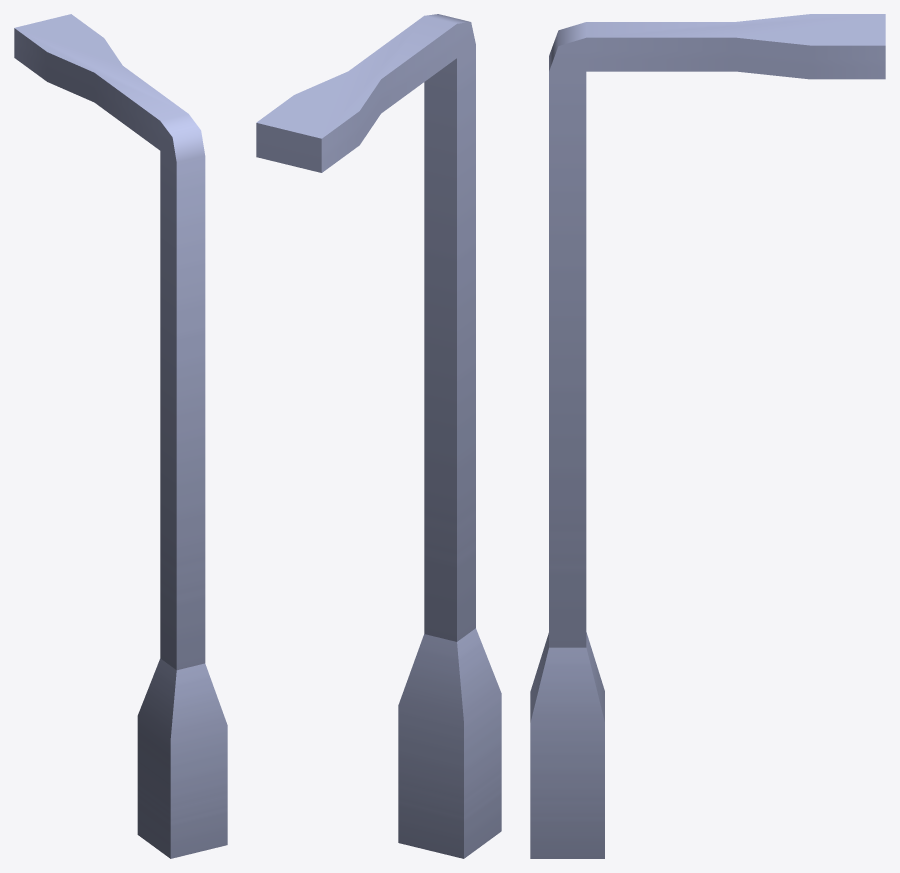
File: light-square.fbx
The picture shows the model from 3 angles, left to right: view 1: azimuth 30°, elevation 25°; view 2: azimuth 150°, elevation 25°; view 3: azimuth 270°, elevation 25°; orthographic projection. The views are drawn at different scales.
Visible parts, largest first — view 1: light-square; view 2: light-square; view 3: light-square.
Boxes of the visible parts, left/top/right/bottom form: light-square: left=14, top=14, right=227, bottom=858; light-square: left=256, top=14, right=501, bottom=858; light-square: left=530, top=14, right=885, bottom=858.
Size of the model in its own units: 5 by 60 by 23.75.
